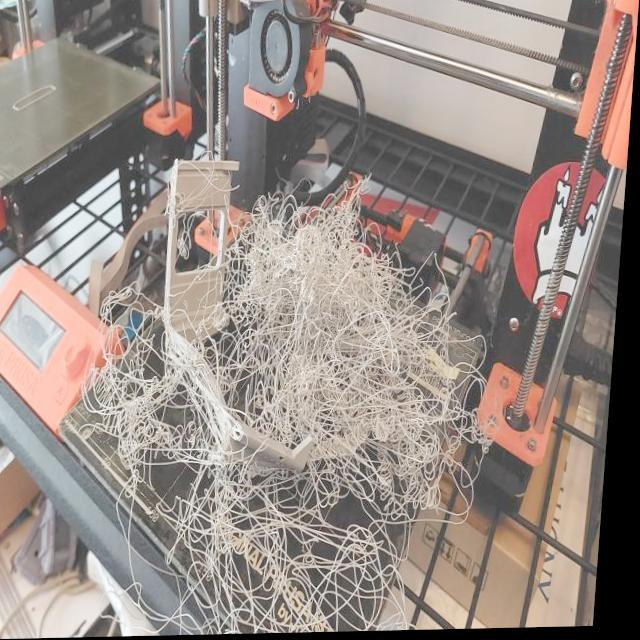spaghetti: (220, 212, 504, 477), (203, 451, 447, 637), (94, 291, 242, 581)
